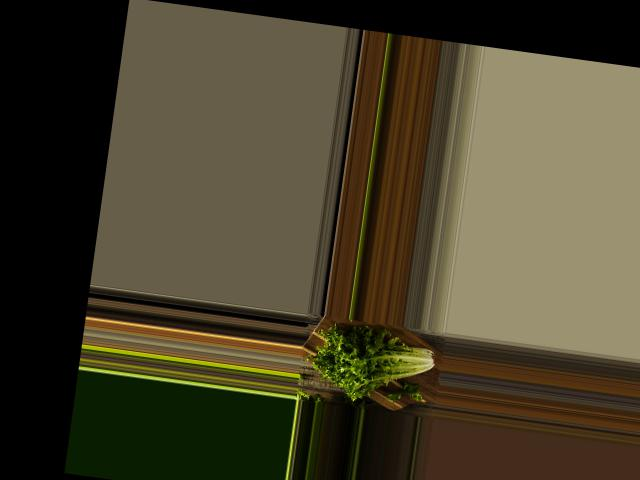lettuce: (308, 319, 445, 409)
